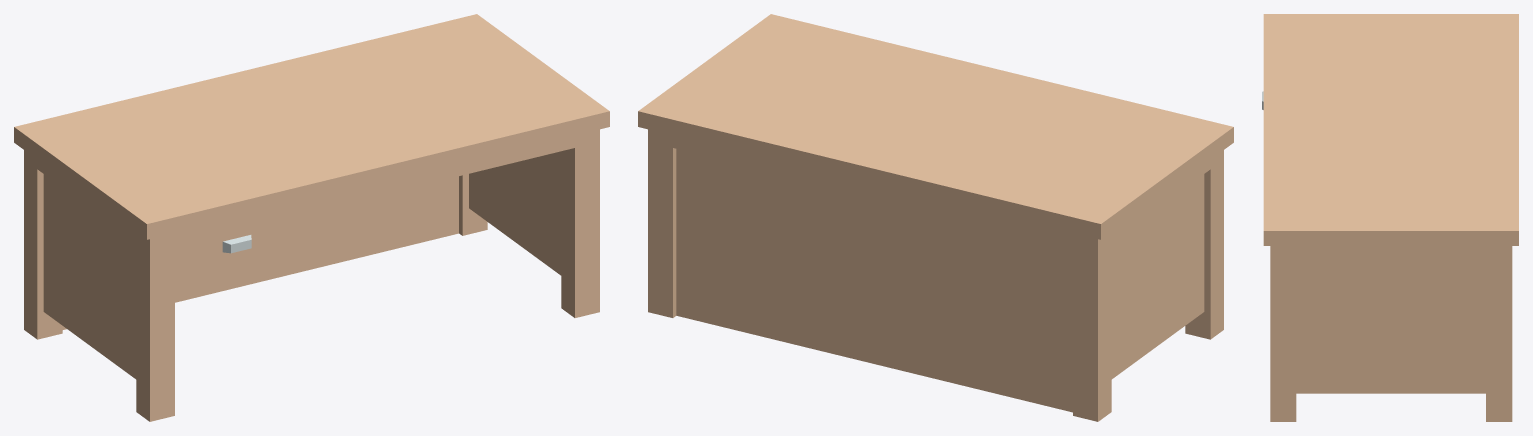
The picture shows the model from 3 angles, left to right: view 1: azimuth 30°, elevation 25°; view 2: azimuth 150°, elevation 25°; view 3: azimuth 270°, elevation 25°; orthographic projection. The views are drawn at different scales.
Parts seen in each view (by area): view 1: desk(Clone), drawer; view 2: desk(Clone); view 3: desk(Clone).
Part boxes in pixels (box(x1,y1,x2,y2)): desk(Clone): box(14, 14, 609, 421); drawer: box(175, 215, 298, 271); desk(Clone): box(638, 14, 1233, 421); desk(Clone): box(1263, 14, 1518, 421).
Bounding box in the file's own units: 1.8 × 0.75 × 0.9.
